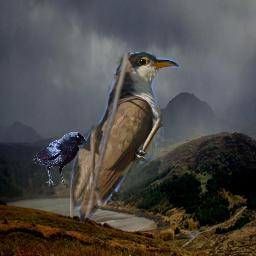Crow: (33, 132, 90, 187)
Cuckoo: (70, 52, 206, 223)
